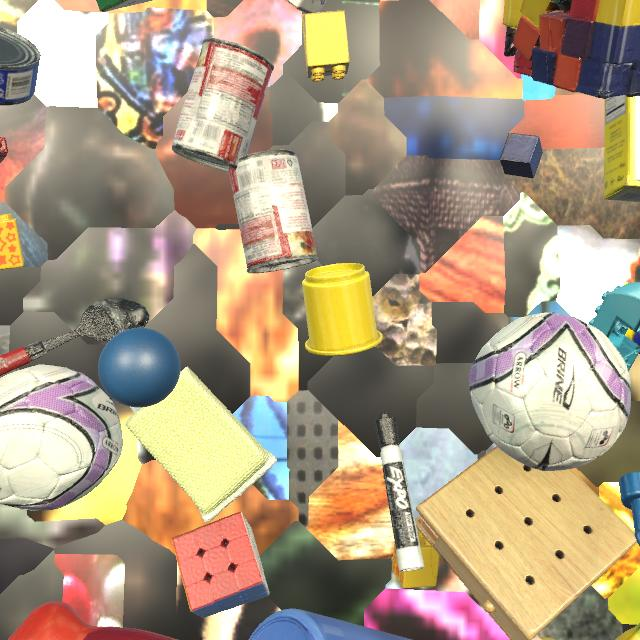ycb_004_sugar_box: (604, 95, 640, 202), (286, 0, 327, 14)
ycb_005_tomato_soup_can: (172, 38, 274, 172), (228, 150, 318, 274)
ycb_007_tuna_fish_can: (0, 26, 41, 106)
ycb_011_banana: (615, 623, 640, 640)
ycb_014_lemon: (540, 637, 556, 640)
